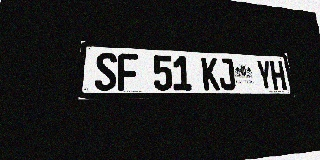1: (172, 56, 192, 90)
5: (153, 55, 173, 90)
F: (118, 53, 138, 91)
H: (269, 60, 287, 90)
J: (217, 58, 236, 90)
K: (201, 57, 220, 90)
S: (95, 52, 117, 91)
Y: (256, 60, 273, 90)
